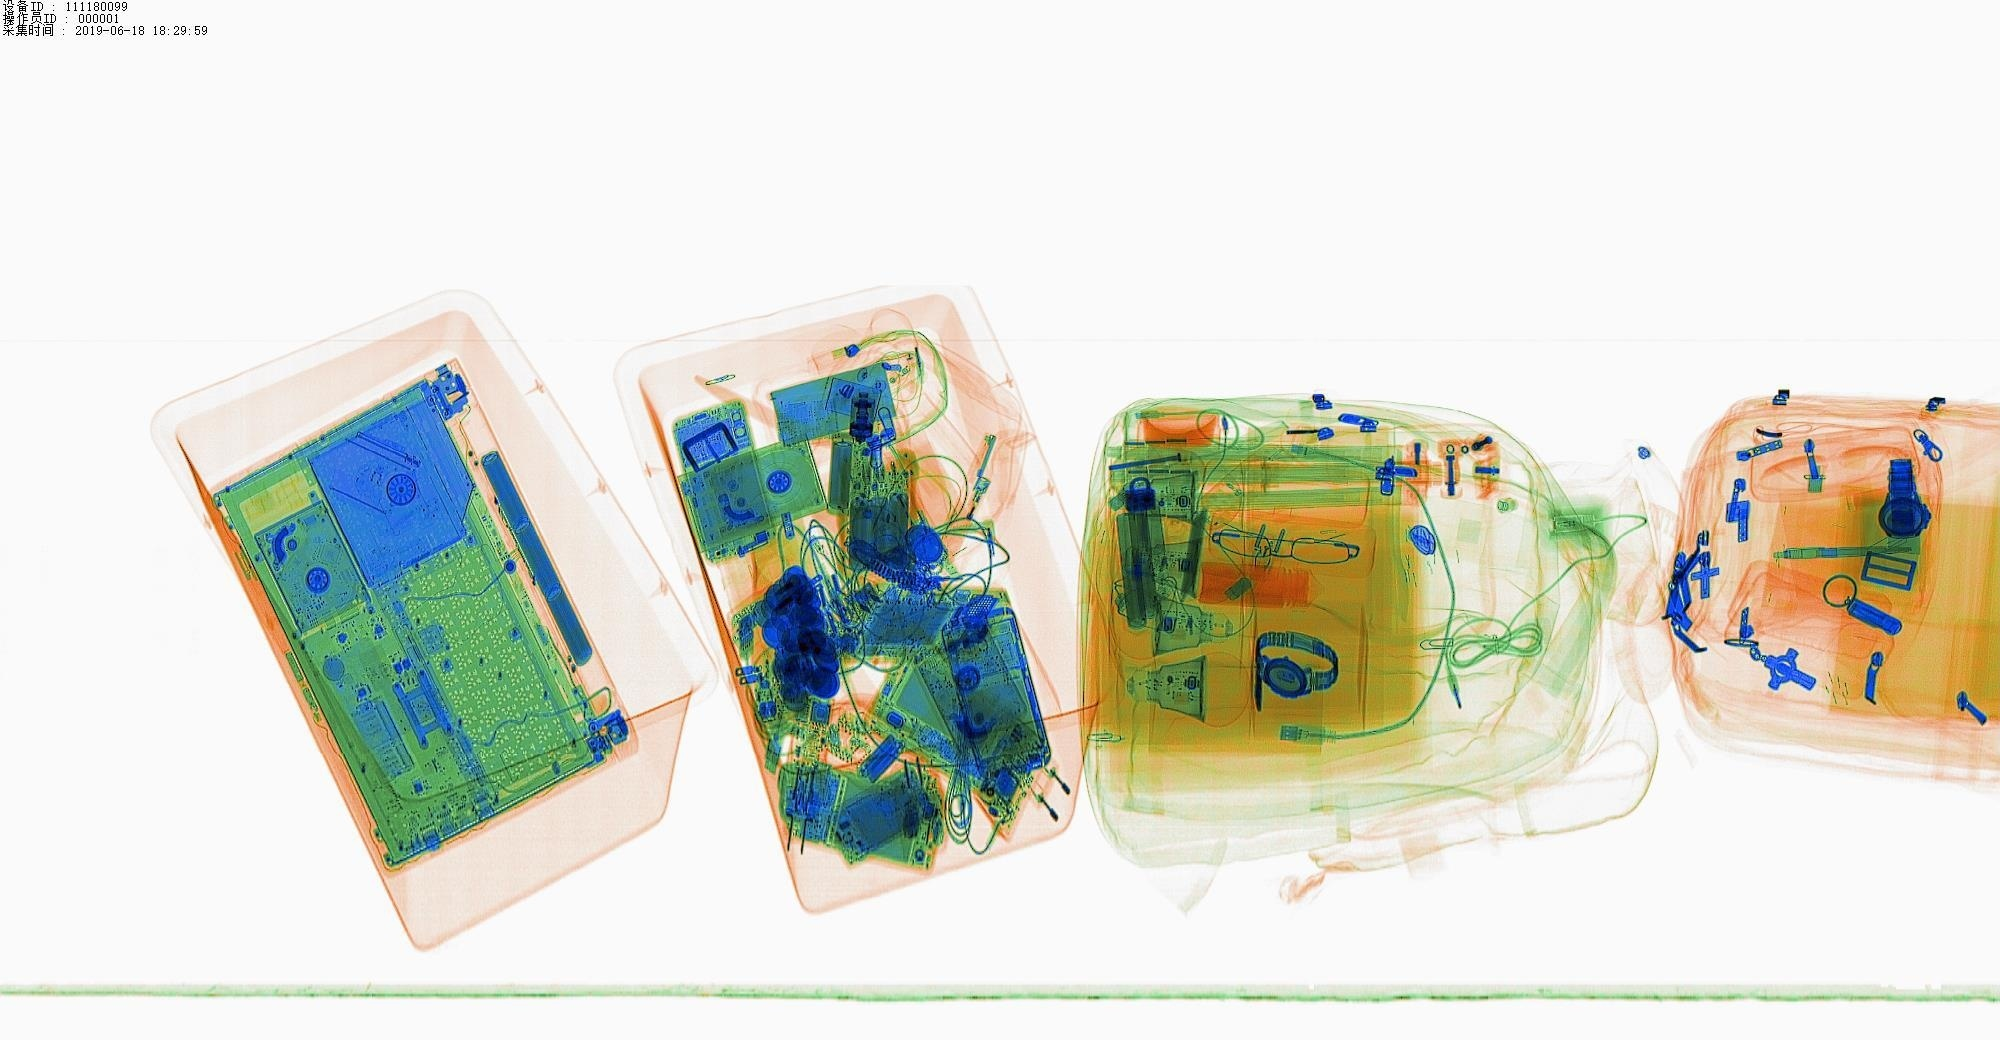NonmetallicFire: (938, 468, 1015, 553)
